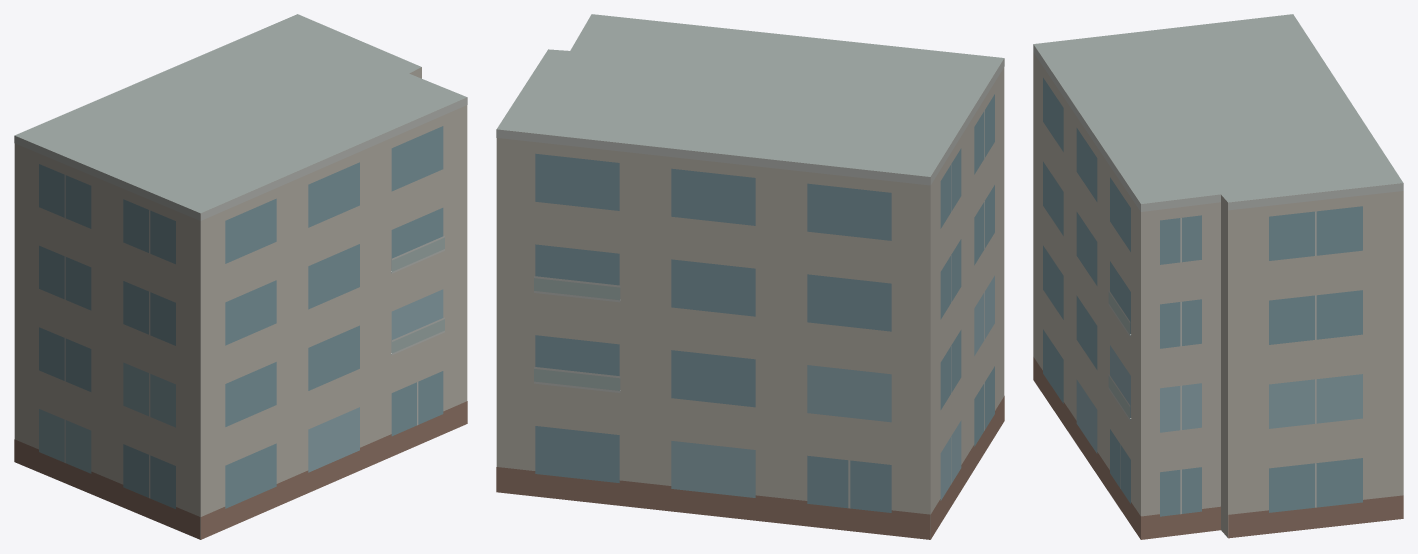
Rendered from survey-upis-32906614.glb.
3 views of the same model, side by side, from view 1: azimuth 30°, elevation 25°; view 2: azimuth 150°, elevation 25°; view 3: azimuth 270°, elevation 25° (orthographic). The views are drawn at different scales.
Parts seen in each view (by area): view 1: survey-upis-32906614.tmp; view 2: survey-upis-32906614.tmp; view 3: survey-upis-32906614.tmp.
Boxes of the visible parts, x1,y1,x2,y2 form: survey-upis-32906614.tmp: (14, 14, 467, 539); survey-upis-32906614.tmp: (496, 14, 1004, 539); survey-upis-32906614.tmp: (1033, 14, 1403, 539).
Size of the model in its own units: 12.64 by 10.4 by 10.41.
